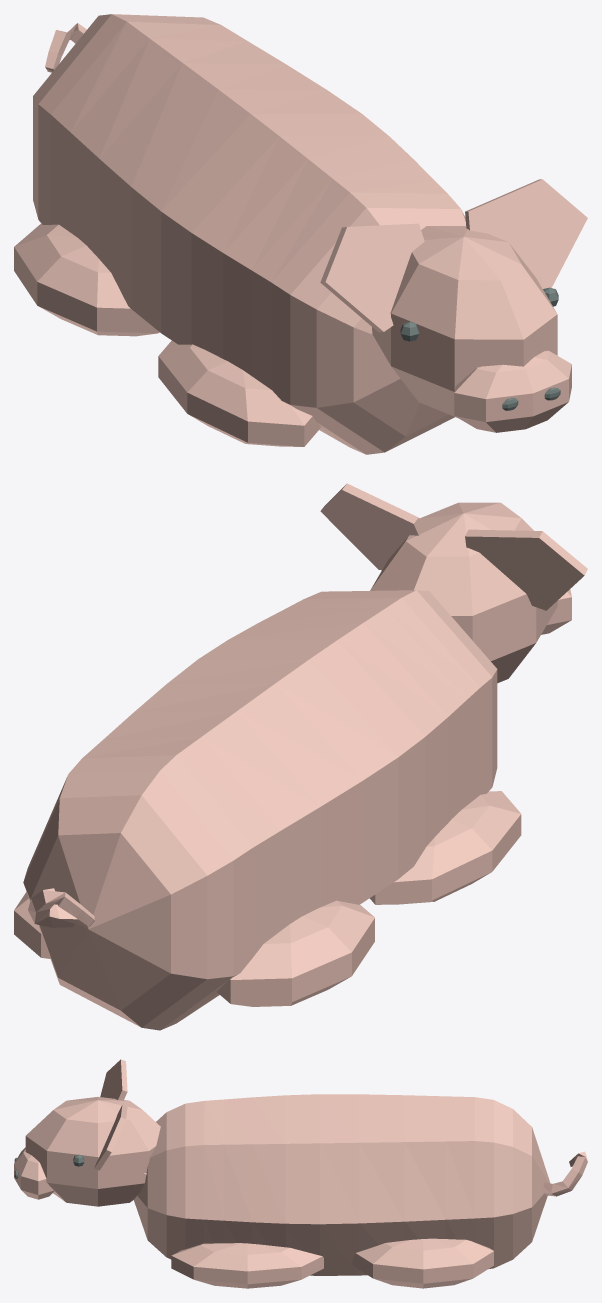
File: sow-wallowing.glb
The picture shows the model from 3 angles, top to bottom: view 1: azimuth 30°, elevation 25°; view 2: azimuth 150°, elevation 25°; view 3: azimuth 270°, elevation 25°; orthographic projection. The views are drawn at different scales.
Parts seen in each view (by area): view 1: sow-wallowing; view 2: sow-wallowing; view 3: sow-wallowing.
Part boxes in pixels (bbox=[...]): sow-wallowing: bbox=[14, 14, 587, 454]; sow-wallowing: bbox=[14, 483, 587, 1030]; sow-wallowing: bbox=[14, 1059, 587, 1288].
Bounding box in the file's own units: 0.765 × 0.6932 × 2.
